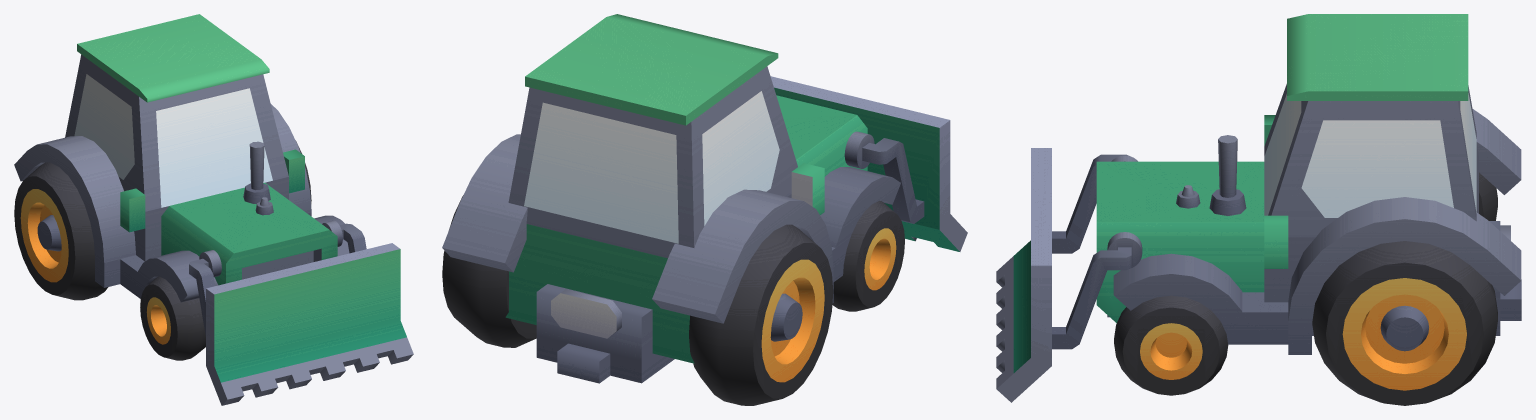
Rendered from tractor-shovel.glb.
3 views of the same model, side by side, from view 1: azimuth 30°, elevation 25°; view 2: azimuth 150°, elevation 25°; view 3: azimuth 270°, elevation 25° (orthographic). The views are drawn at different scales.
Parts seen in each view (by area): view 1: body, shovel, wheel-back-right, wheel-front-right; view 2: body, wheel-back-right, shovel, wheel-front-right, wheel-back-left; view 3: body, wheel-back-left, shovel, wheel-front-left, wheel-back-right.
Boxes of the visible parts, bbox=[...] form: body: bbox=[14, 14, 349, 302]; shovel: bbox=[189, 220, 413, 405]; wheel-back-right: bbox=[14, 162, 108, 300]; wheel-front-right: bbox=[140, 276, 205, 360]; body: bbox=[442, 14, 900, 383]; wheel-back-right: bbox=[689, 224, 833, 405]; shovel: bbox=[770, 76, 967, 251]; wheel-front-right: bbox=[832, 200, 904, 311]; wheel-back-left: bbox=[442, 195, 536, 347]; body: bbox=[1096, 14, 1521, 354]; wheel-back-left: bbox=[1312, 241, 1497, 405]; shovel: bbox=[996, 148, 1142, 402]; wheel-front-left: bbox=[1114, 295, 1228, 395]; wheel-back-right: bbox=[1479, 172, 1497, 220].
Size of the model in its own units: 1.66 by 1.51 by 2.47.
Materials: 1 (1 with a texture image).
